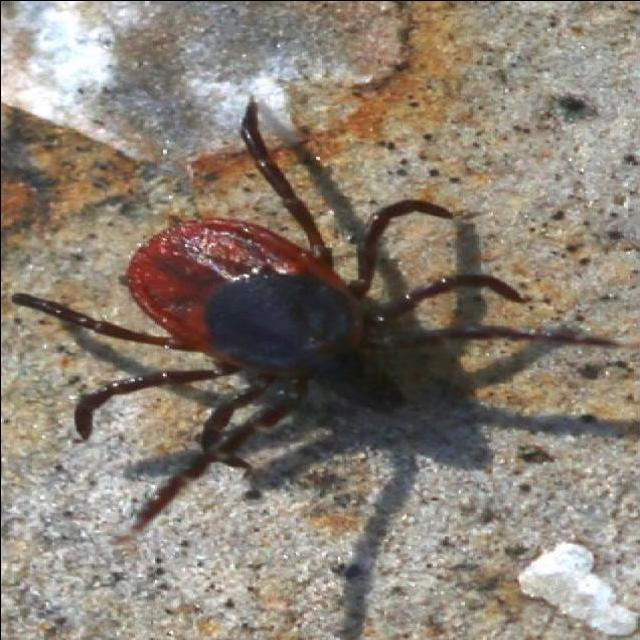Ixodes Ricinus-F: (10, 96, 640, 477)
